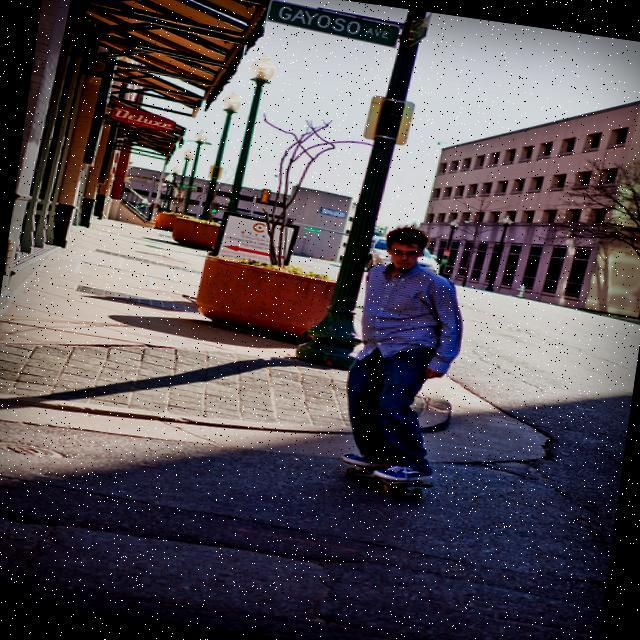fire_hydrant: (515, 283, 527, 297)
